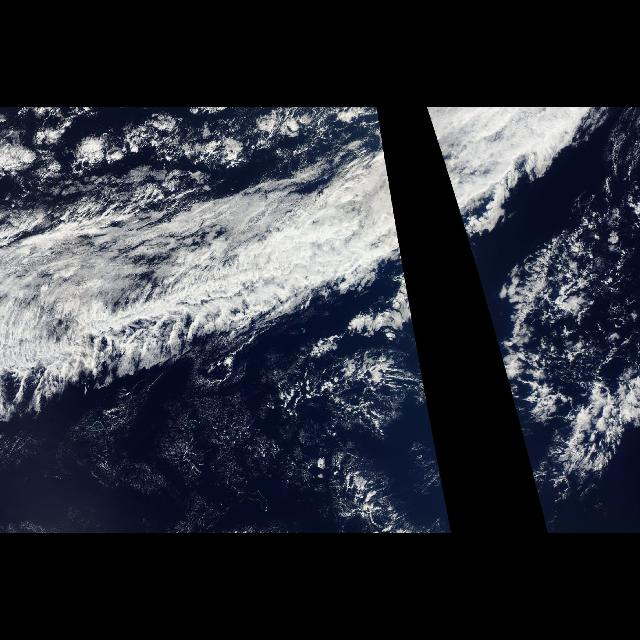Fish: (0, 135, 426, 385), (434, 135, 640, 385)
Gravel: (284, 327, 451, 523), (502, 245, 636, 362)
Sugar: (78, 406, 286, 530)
